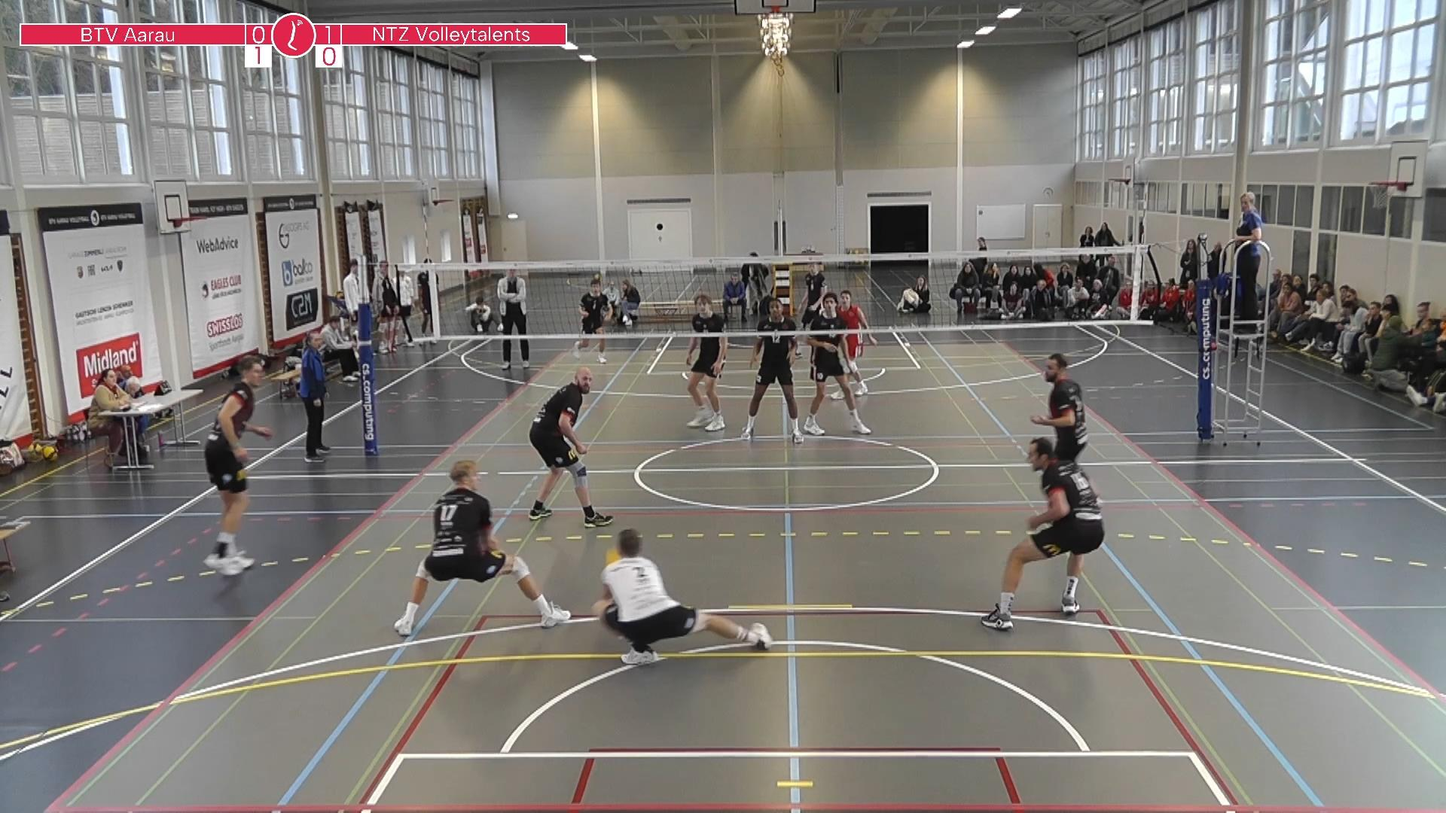Player: (394, 461, 570, 636), (981, 437, 1103, 629), (204, 356, 272, 575), (529, 368, 613, 527), (803, 293, 871, 434), (741, 300, 803, 443), (1031, 353, 1087, 461), (686, 294, 727, 431), (572, 279, 611, 363), (801, 265, 827, 328), (845, 333, 868, 395)
Receive: (583, 528, 780, 671)
ball: (600, 546, 619, 571)
